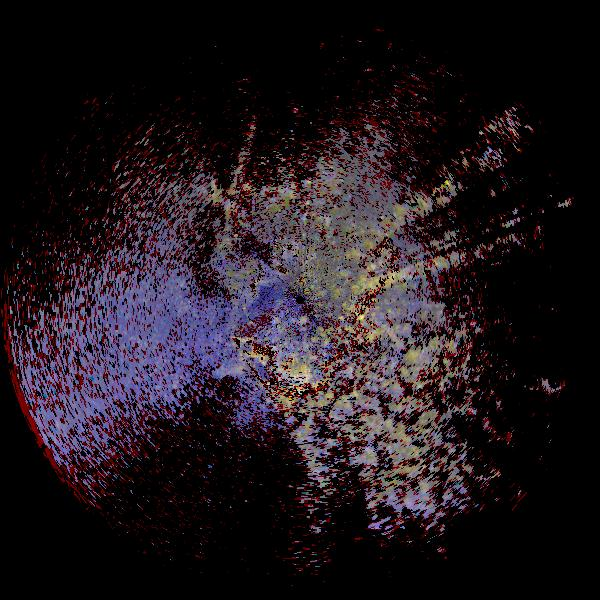roost: (284, 357, 320, 393)
